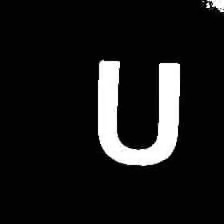LTR_U: (90, 49, 190, 168)
